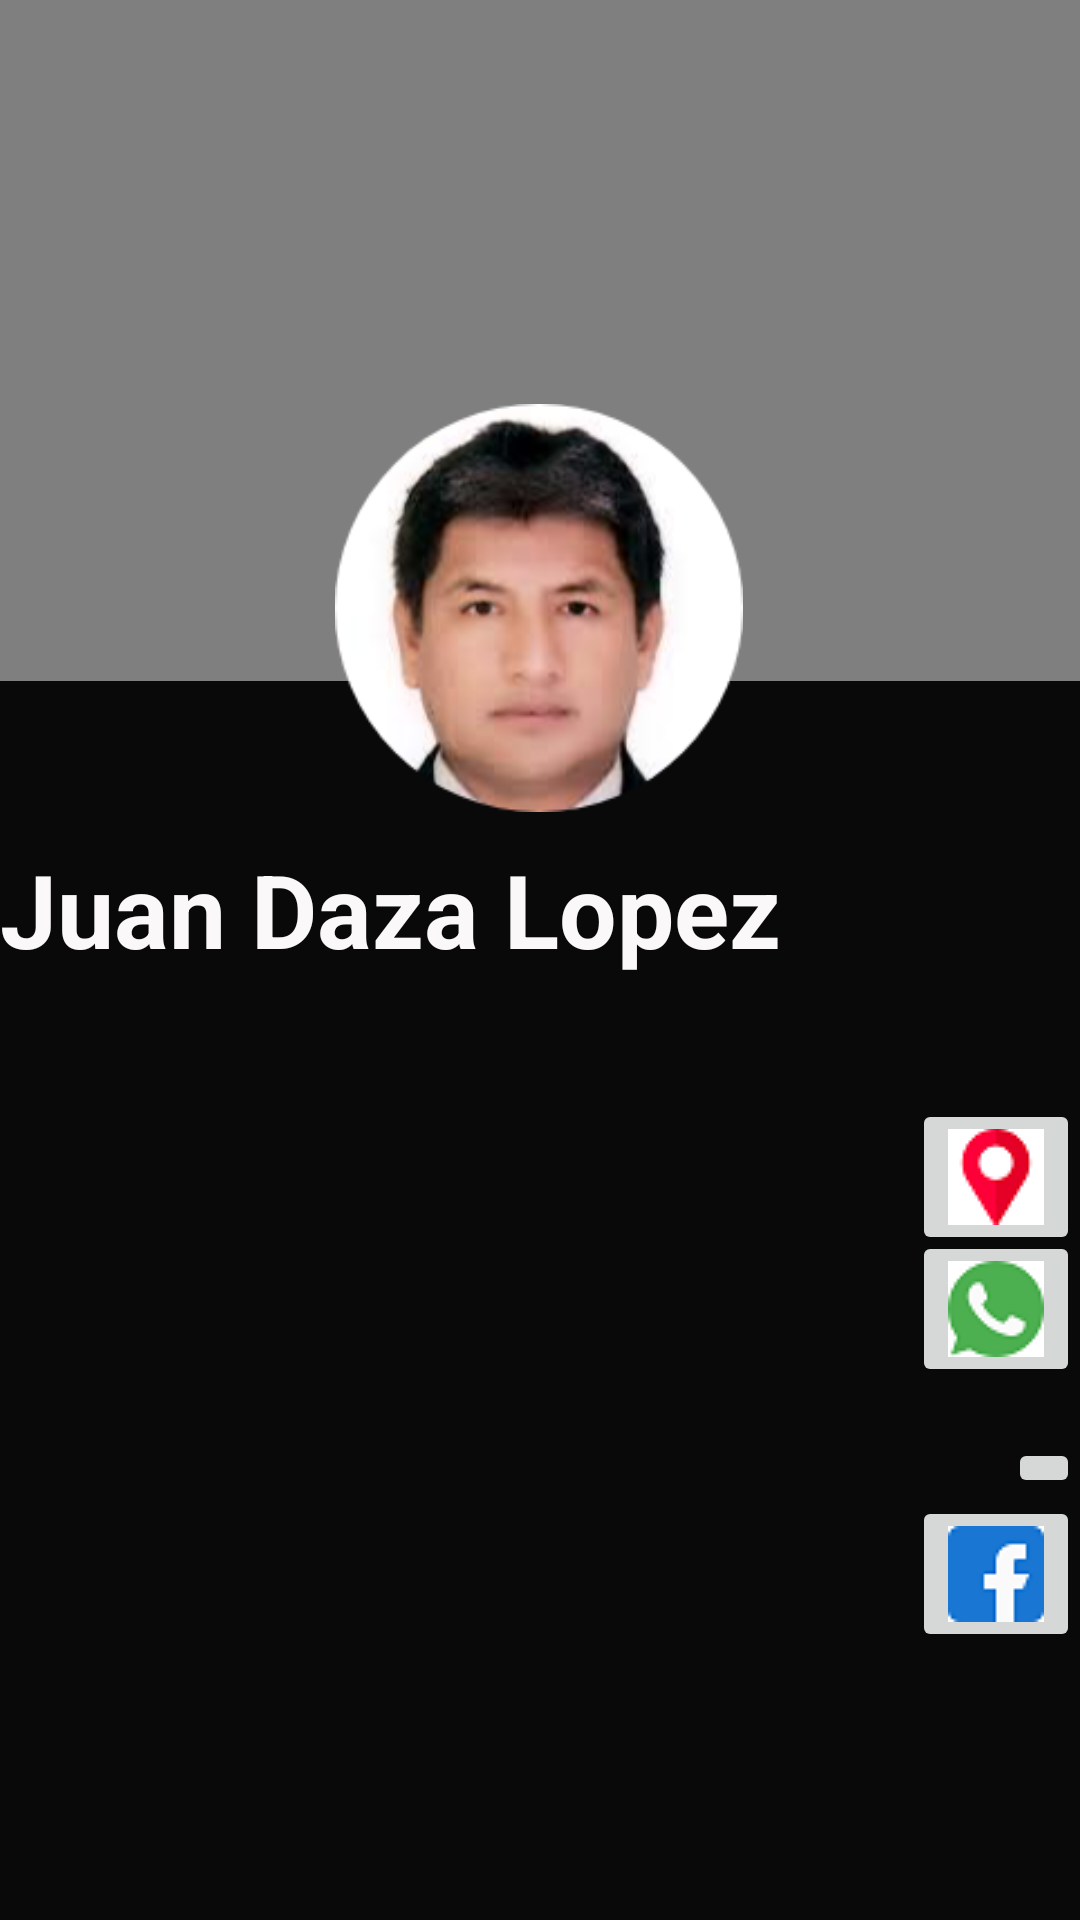

Point at icon controls on the screen. Image size 1080w x 1920h, points as [x,y].
ubicacion: [996,1177]
